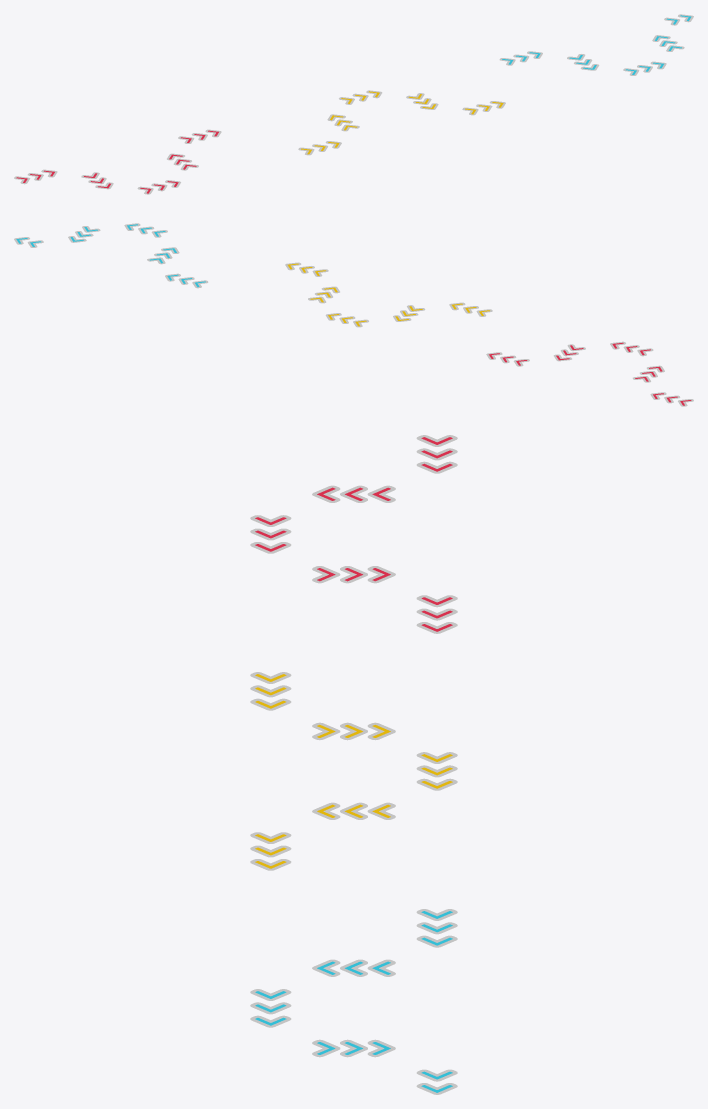
Rendered from Frecce.glb.
3 renders of one model, top to bottom at view 1: azimuth 30°, elevation 25°; view 2: azimuth 150°, elevation 25°; view 3: azimuth 270°, elevation 25°, orthographic. The views are drawn at different scales.
Bounding box in the file's own units: 70.39 × 1.58e-06 × 9.35.
Materials: 4 (1 with a texture image).
